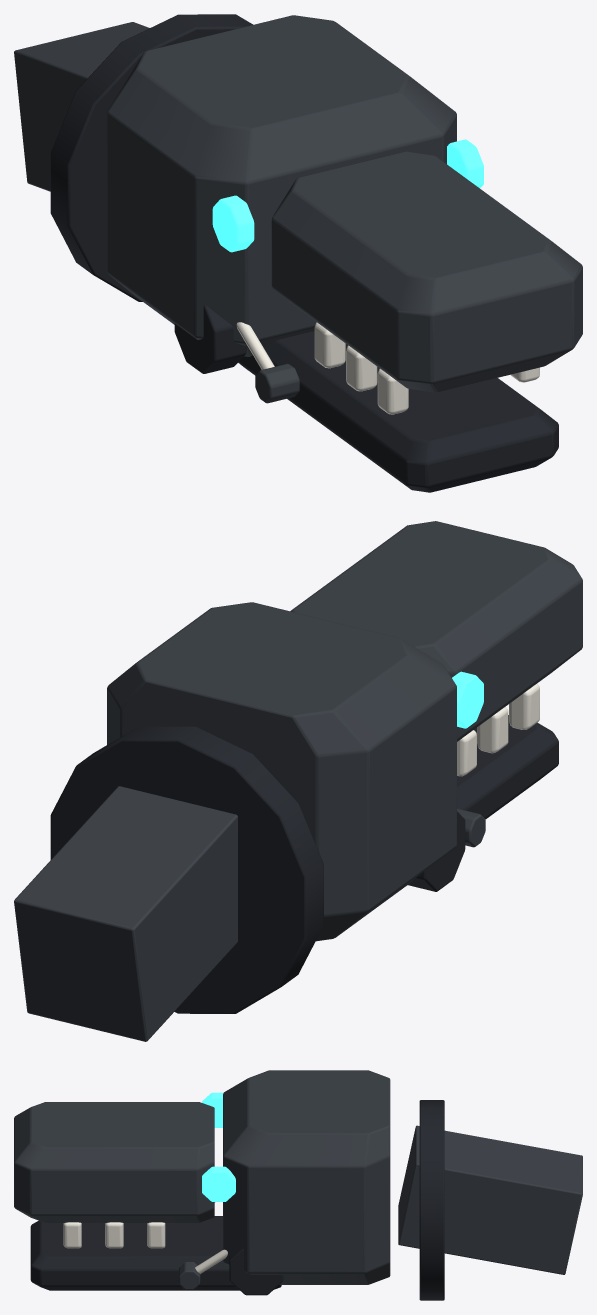
The model's file is Skel_HeadAnimal.fbx.
3 views of the same model, one above another, from view 1: azimuth 30°, elevation 25°; view 2: azimuth 150°, elevation 25°; view 3: azimuth 270°, elevation 25° (orthographic). The views are drawn at different scales.
Visible parts, largest first — view 1: Skel_HeadAnimal; view 2: Skel_HeadAnimal; view 3: Skel_HeadAnimal.
Boxes of the visible parts, x1,y1,x2,y2 form: Skel_HeadAnimal: [14, 14, 582, 492]; Skel_HeadAnimal: [14, 521, 582, 1041]; Skel_HeadAnimal: [14, 1070, 582, 1300].
Size of the model in its own units: 0.24 by 0.25 by 0.6805.
